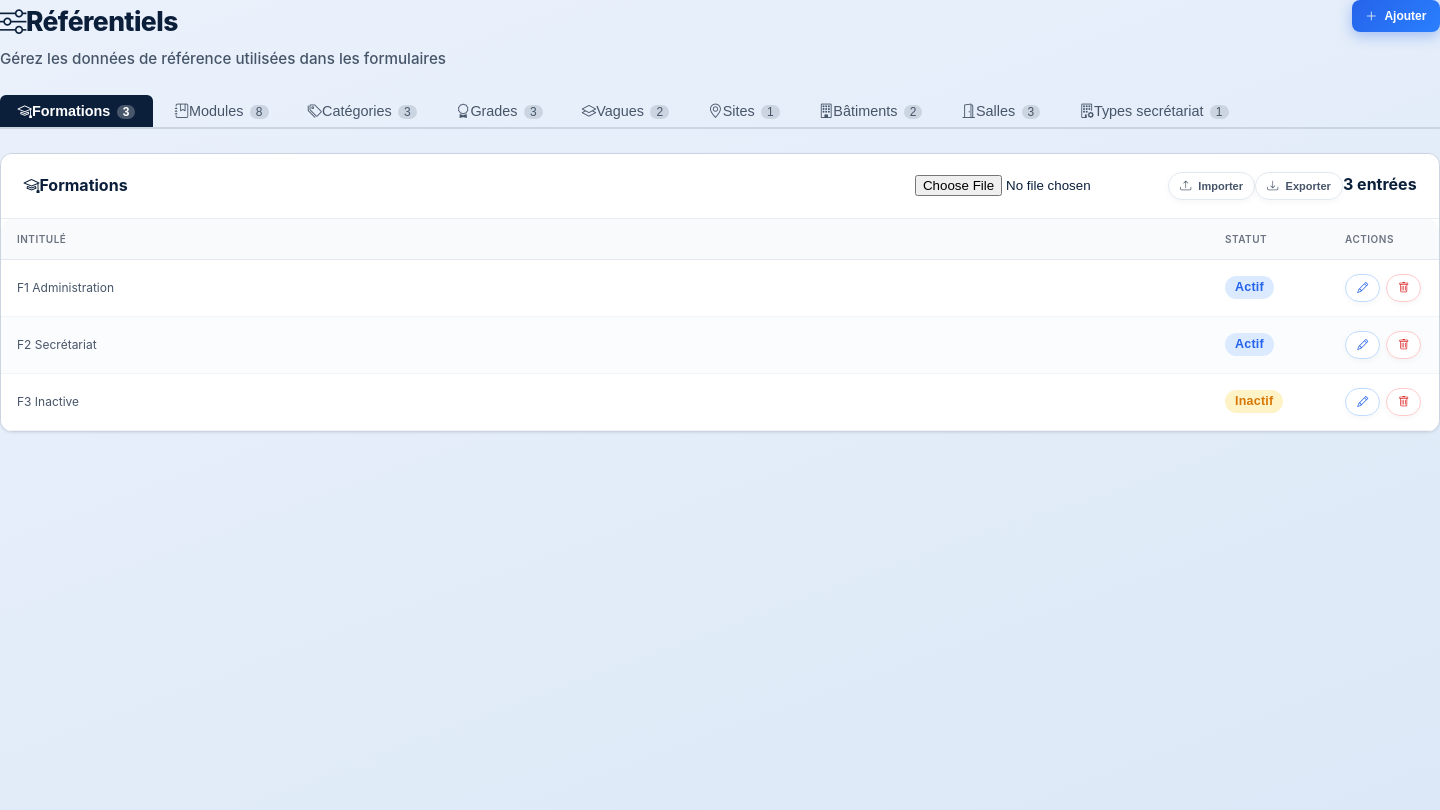
pages/Referentiels.jsx — chargement, onglets et table (LOT 35) › change d'onglet au clic (compteurs d'en-tête et formulaire associé)
Click the button "Sites1" at (744, 111), box x1=691 y1=95 x2=797 y2=127
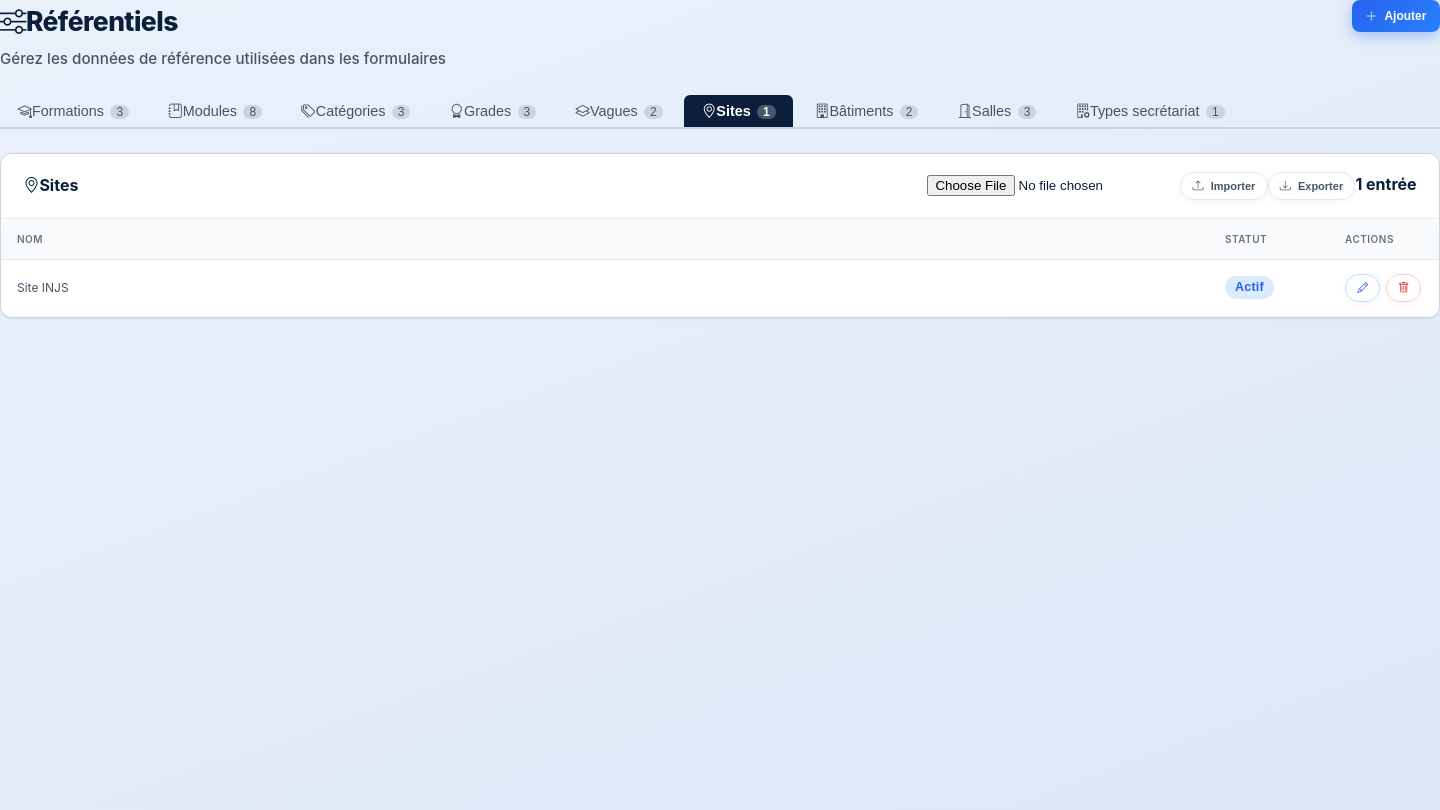
Expected: the text "Sites" is shown, x1=23 y1=173 x2=78 y2=199
Expected: the text "1 entrée" is shown, x1=1355 y1=174 x2=1417 y2=194
